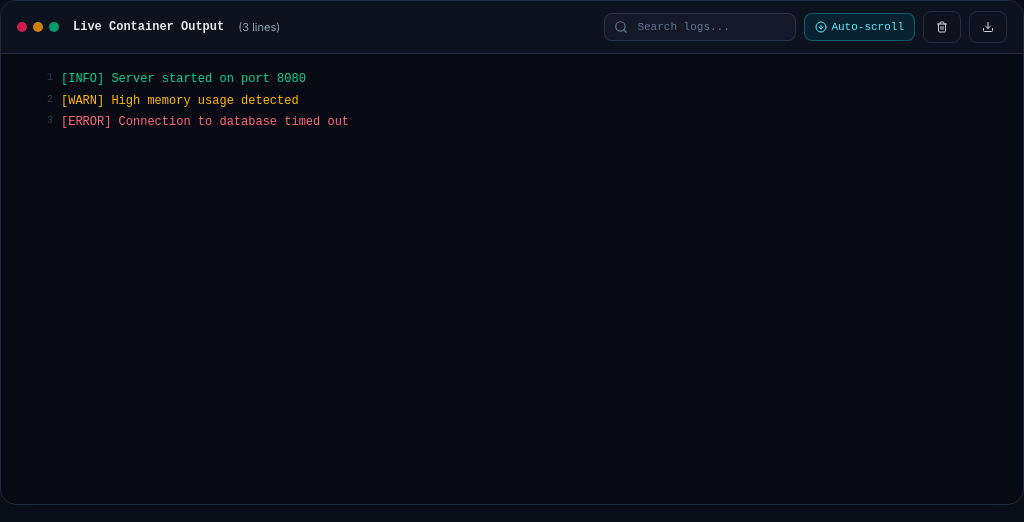
Scenario: LogTerminal › clears terminal output when clear button clicked
This screenshot has width=1024, height=522.
What coordinates should you click on to do the following:
click the button titled "Clear terminal display"
I would click on:
 (942, 27)
Its box is [923, 11, 961, 43].
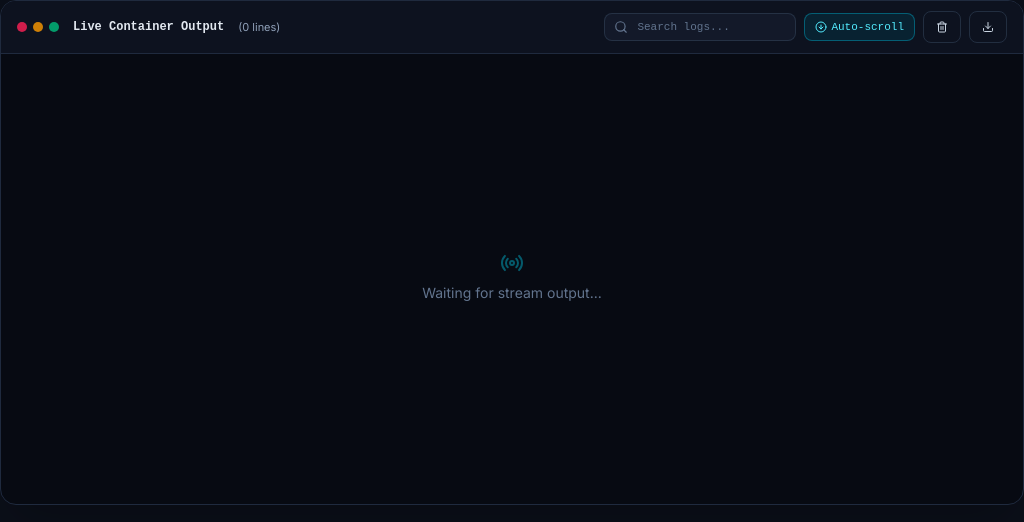
expect the text "Waiting for stream output..." is shown: met, box [422, 283, 602, 303]
